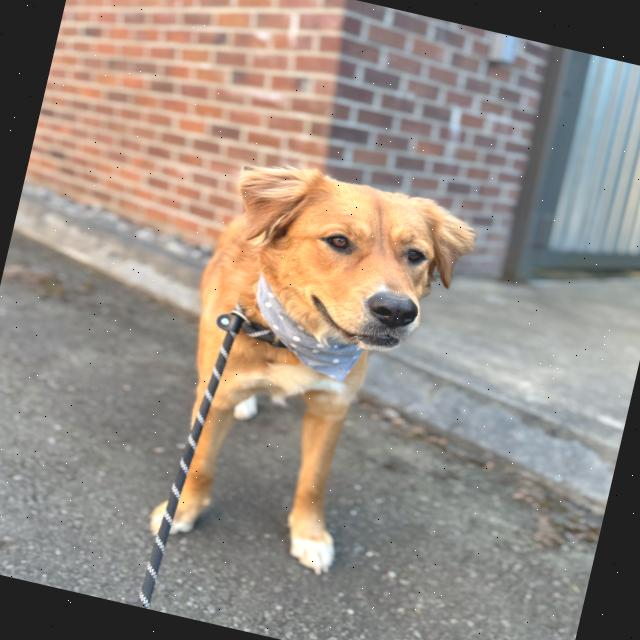golden_retriever_dog: (182, 150, 490, 398)
